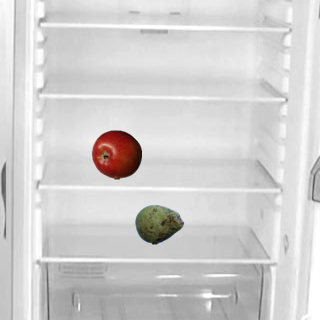Apple Braeburn: (91, 129, 141, 179)
Pear Stone: (134, 199, 184, 249)
